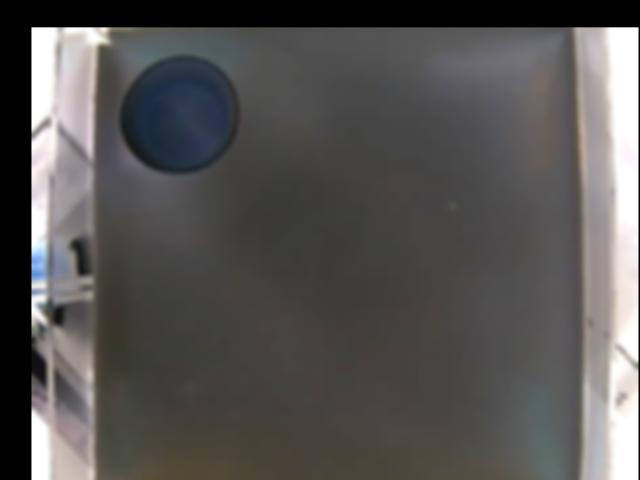Cup: (117, 53, 244, 179)
